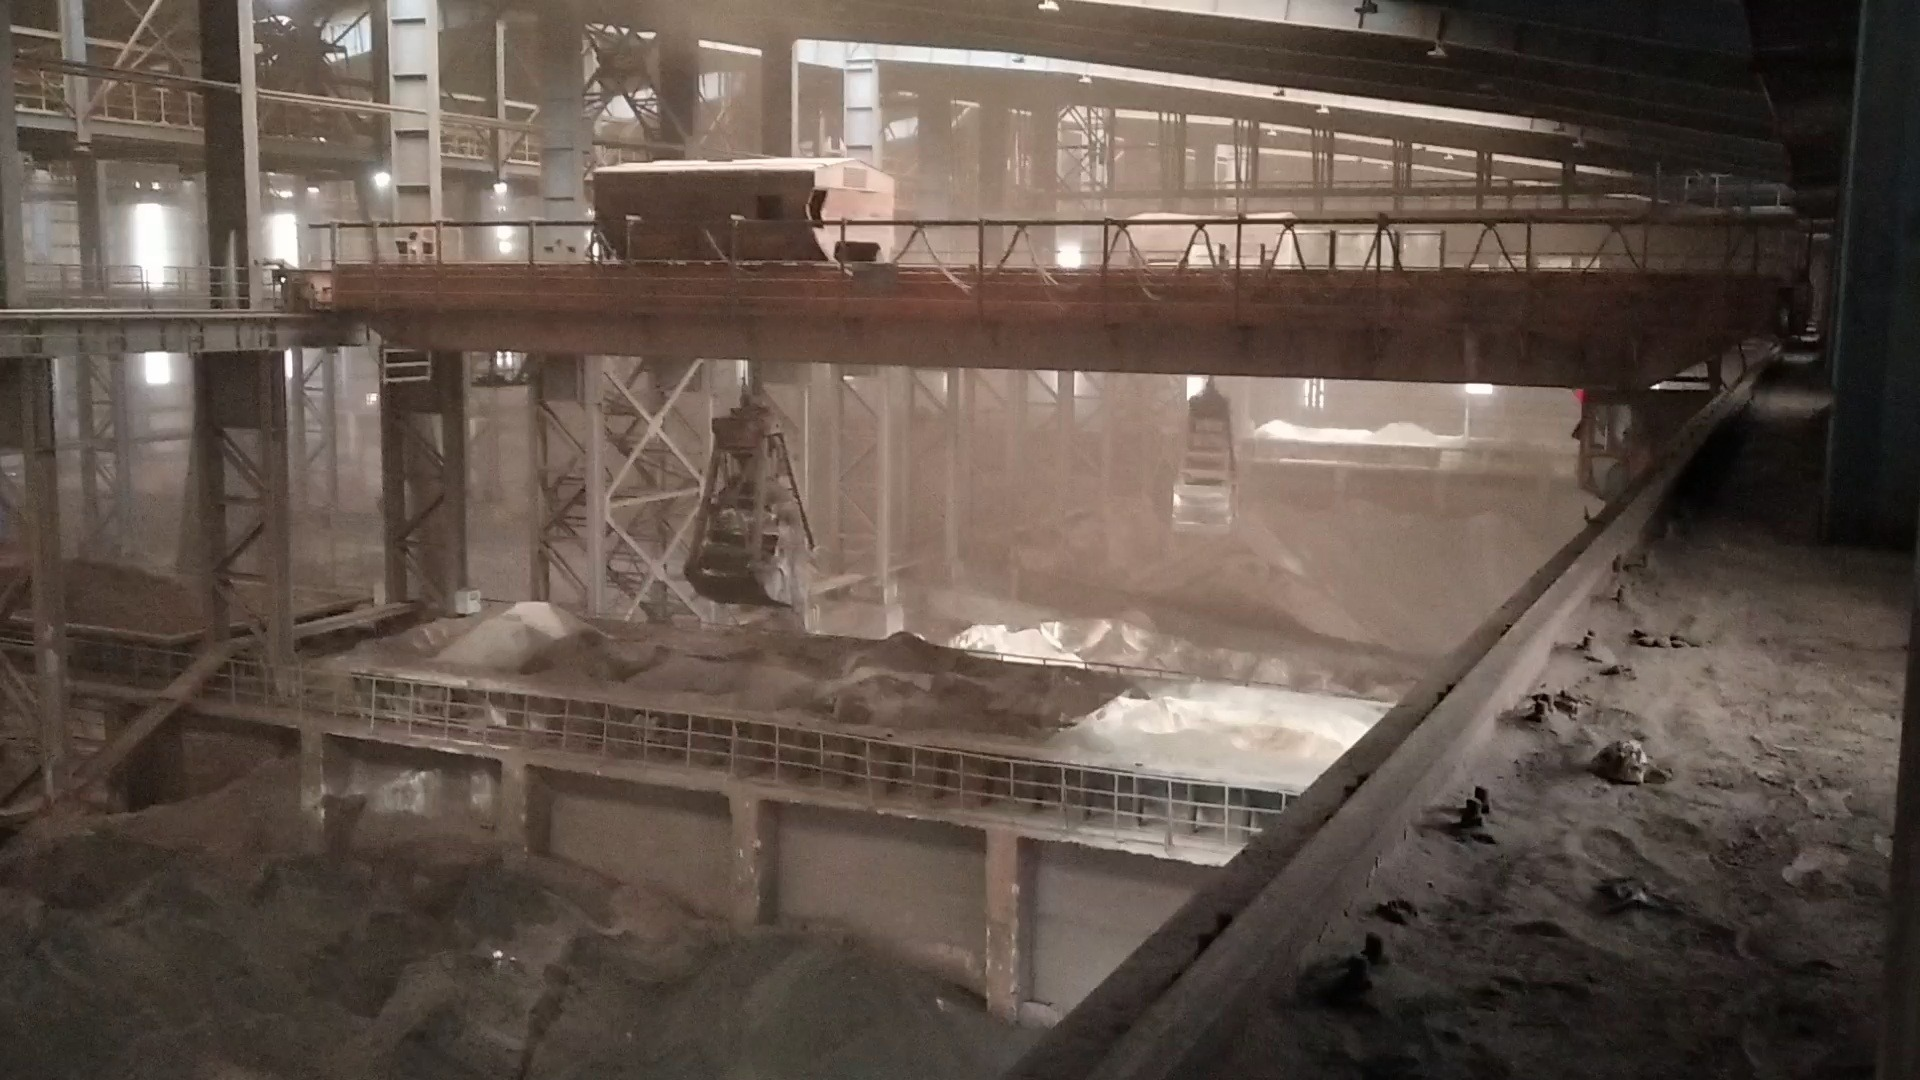grab: (679, 377, 820, 609), (1158, 382, 1244, 539)
